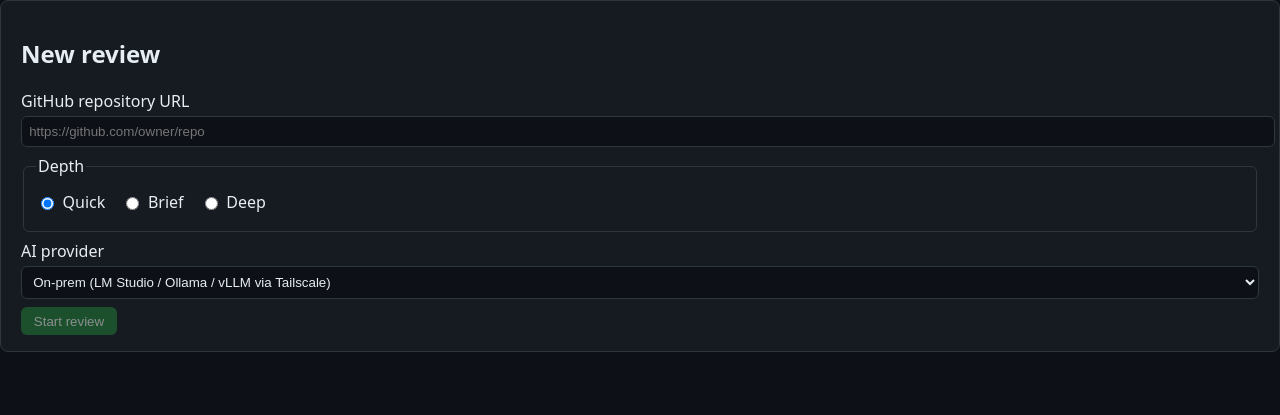
Test case: invalid URL blocks submit; on-prem has no warning; server error shown
In the field with placeholder "https://github.com/owner/repo": coordinates (648, 132) [21, 116, 1275, 147], type "https://gitlab.com/a/b"
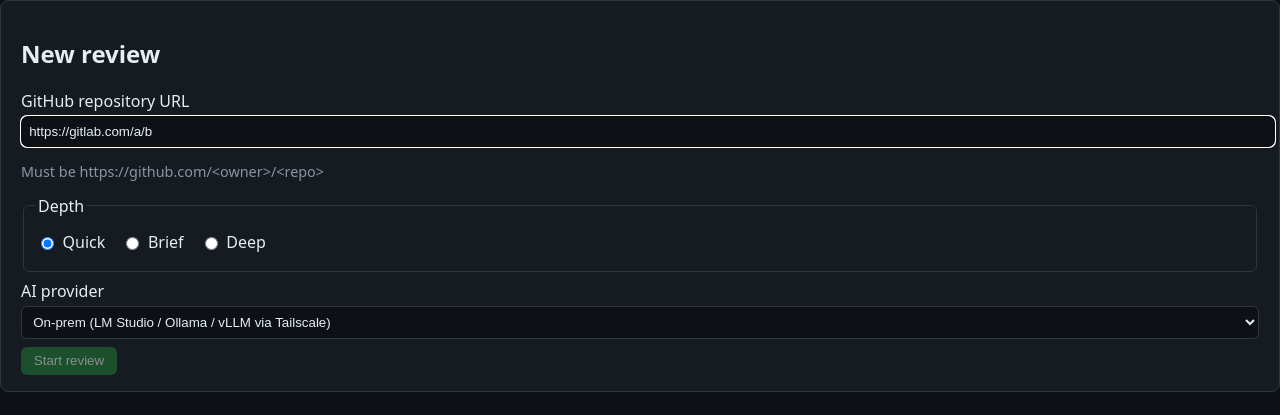
Expected: the text "Must be https://github.com/<owner>/<repo>" is shown, [21, 162, 324, 181]
Replace the text in the field with placeholder "https://github.com/owner/repo" with "https://github.com/a/b": coordinates (648, 132) [21, 116, 1275, 147]
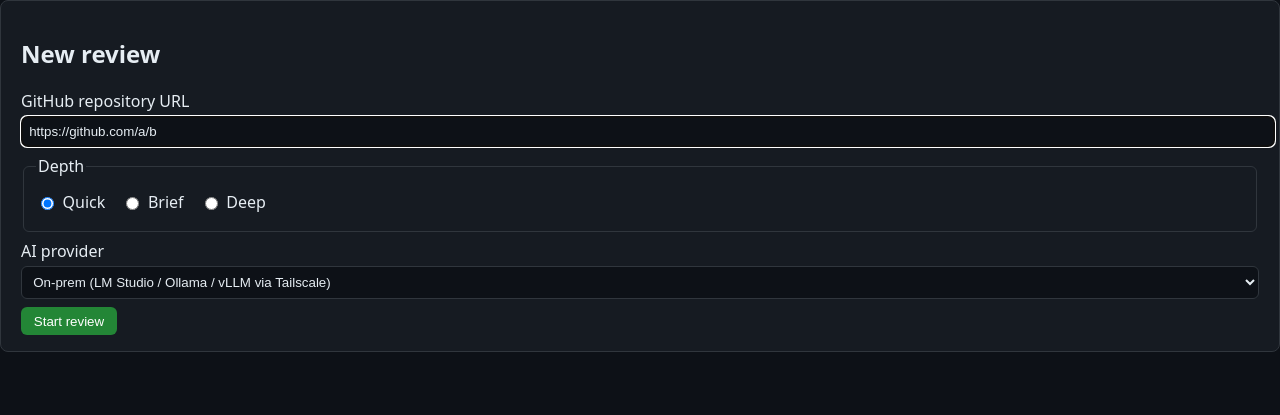
Select "No AI (scanners only)" in the dropdown labelled "AI provider": coordinates (640, 282) [21, 266, 1259, 299]
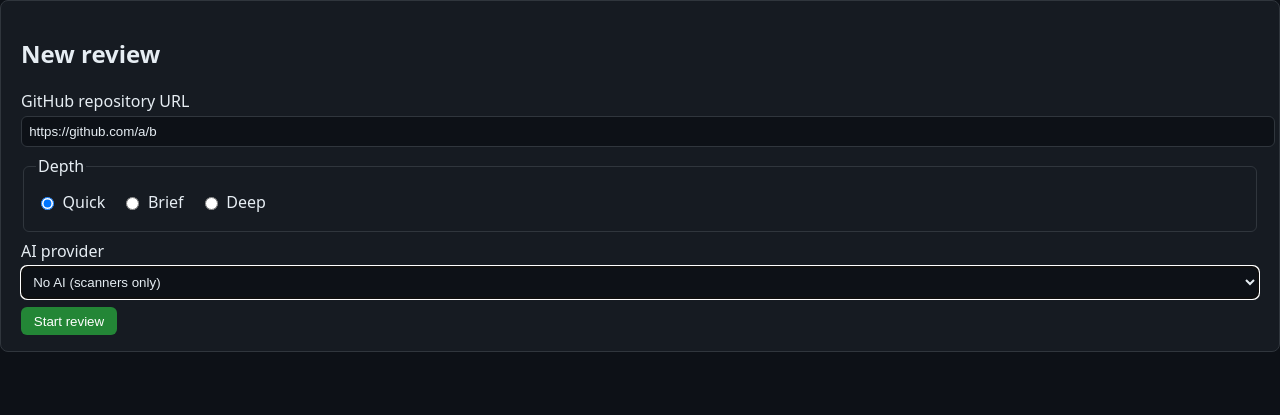
Click the button "Start review": coordinates (69, 321) [21, 307, 117, 335]
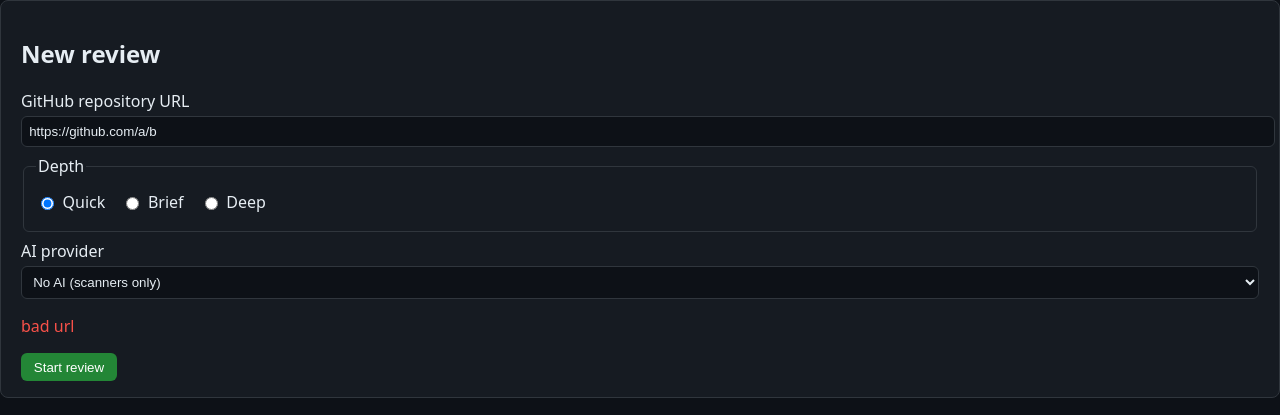
Expected: the text "bad url" is shown, [21, 315, 74, 337]
